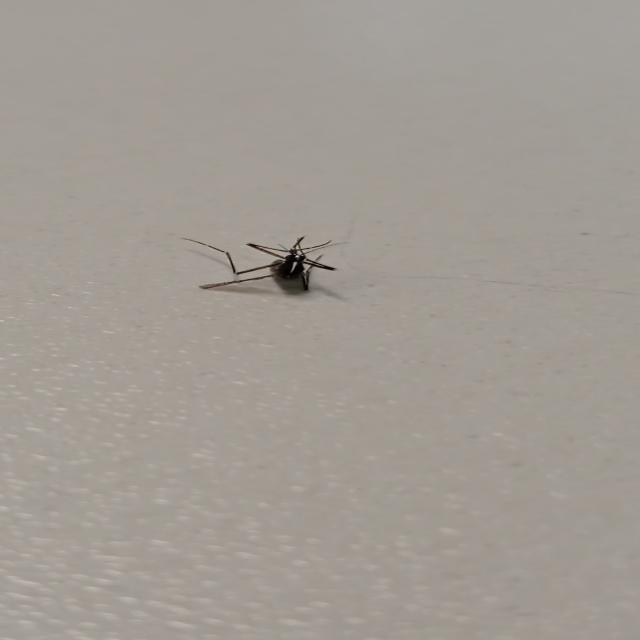albopictus: (174, 227, 348, 295)
